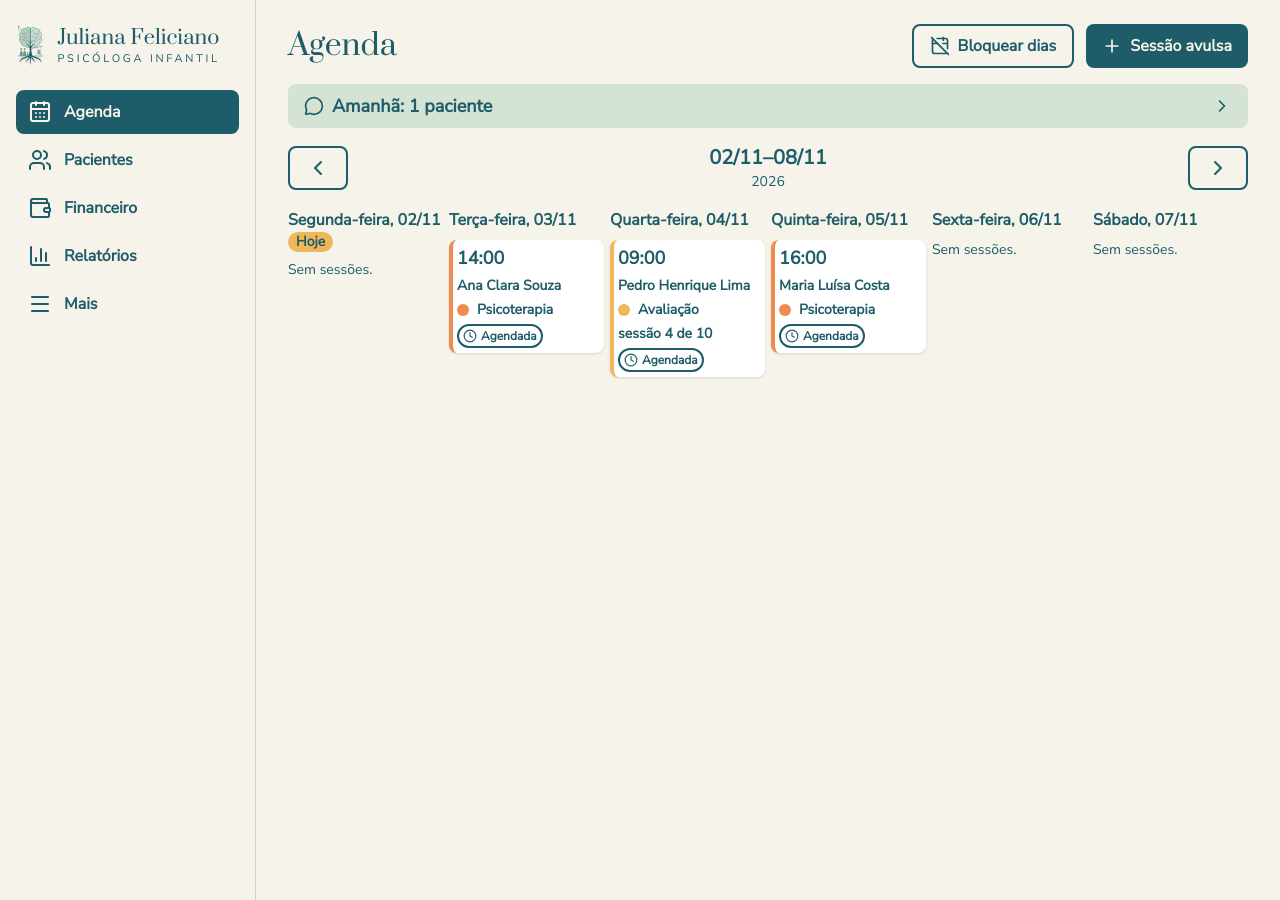
Scenario: TelaAgenda — semana › "Próxima semana" mostra 09/11–15/11 e "Semana anterior" volta
Expected: the text "02/11–08/11" is shown, [709,144,827,172]
Click the button named "Próxima semana" at coordinates (1218, 168), box [1188,146,1248,190]
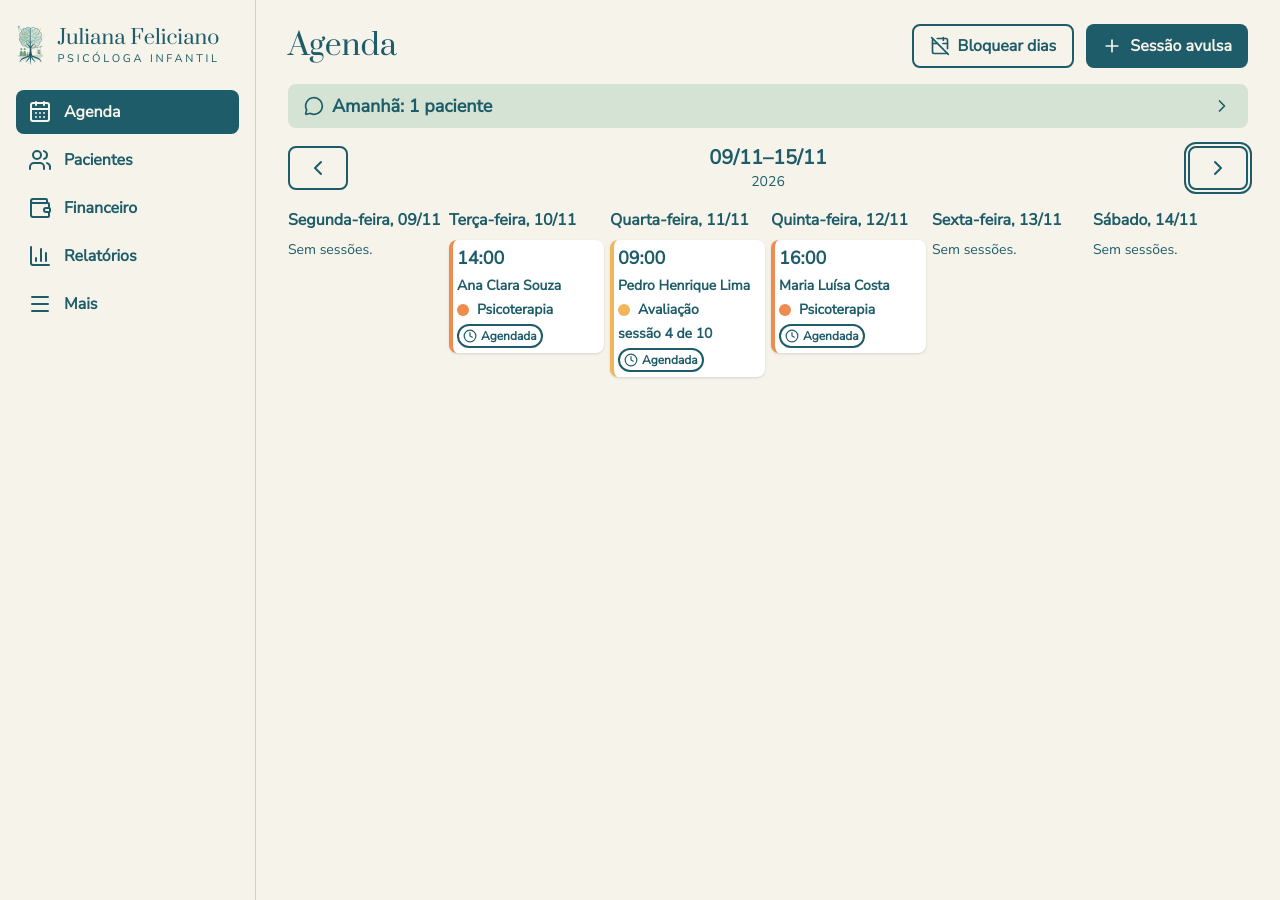
Result: the text "09/11–15/11" is shown at [709,144,827,172]
Click the button named "Semana anterior" at coordinates (318, 168), box [288,146,348,190]
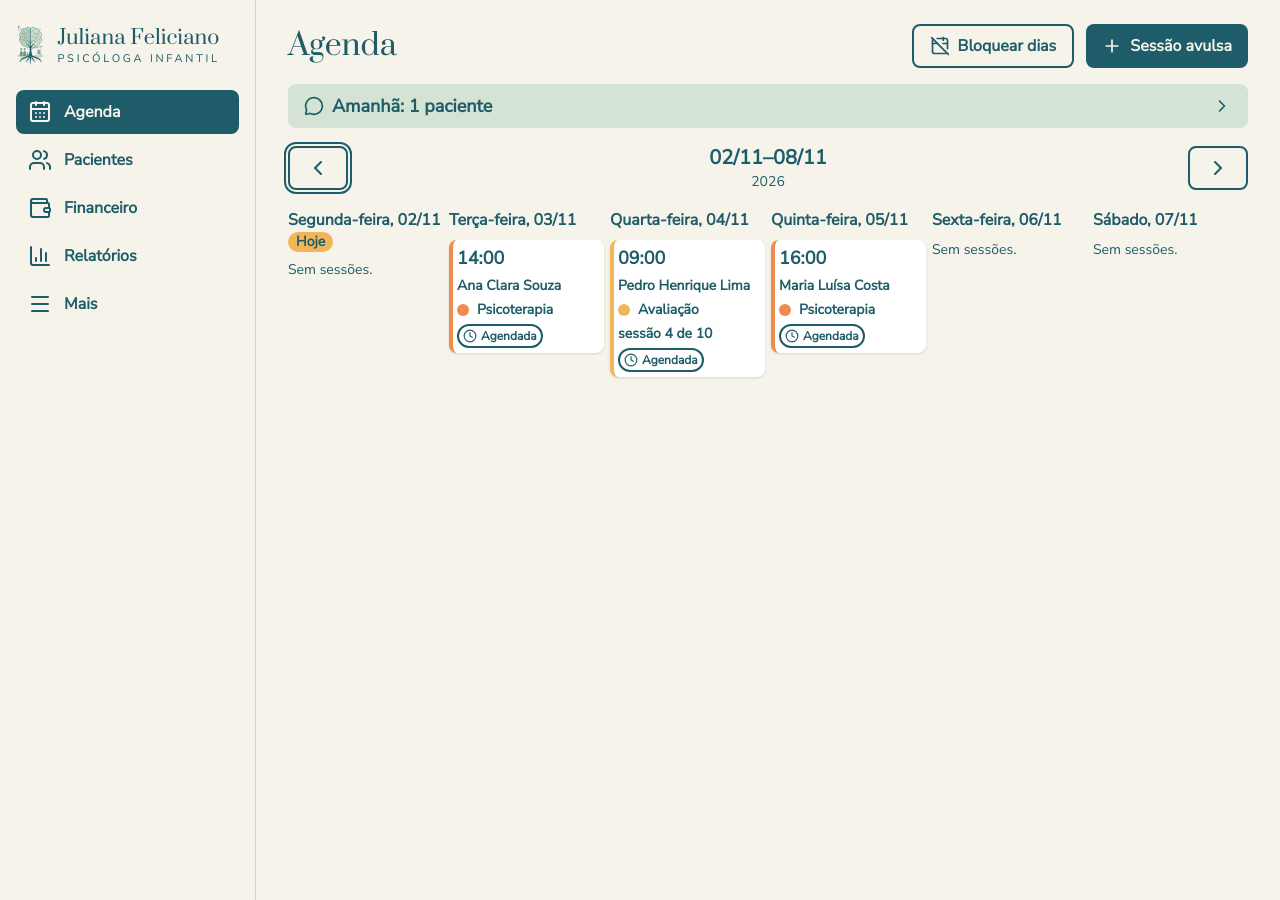
Result: the text "02/11–08/11" is shown at [709,144,827,172]
